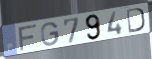4: (106, 10, 125, 37)
7: (62, 16, 80, 45)
9: (84, 13, 102, 41)
D: (125, 7, 146, 35)
F: (18, 23, 39, 53)
G: (40, 21, 60, 47)
